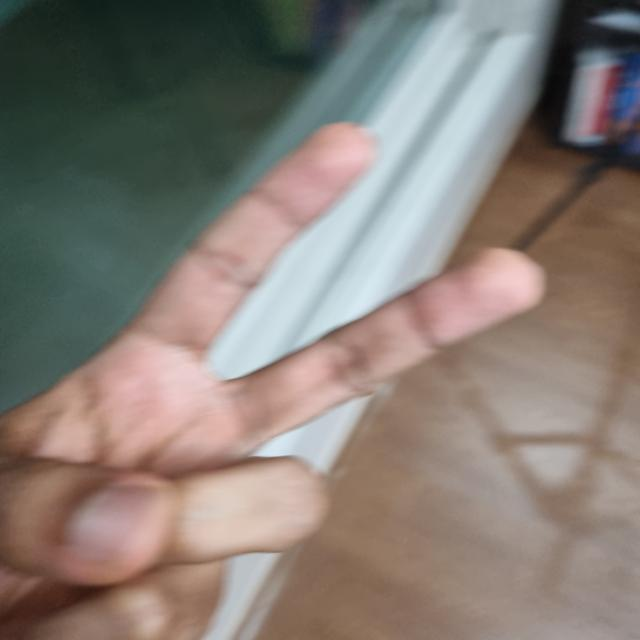Scissors: (0, 128, 535, 638)
